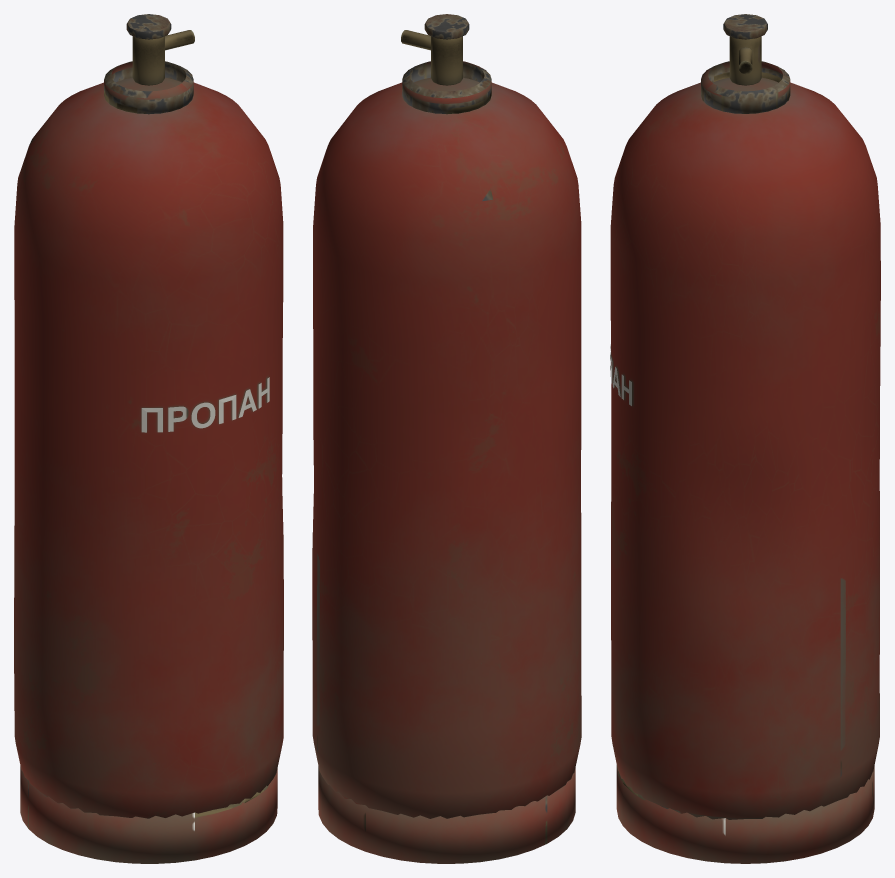
File: GasCylinder.fbx
The picture shows the model from 3 angles, left to right: view 1: azimuth 30°, elevation 25°; view 2: azimuth 150°, elevation 25°; view 3: azimuth 270°, elevation 25°; orthographic projection.
Visible parts, largest first — view 1: GasCylinder_Mesh; view 2: GasCylinder_Mesh; view 3: GasCylinder_Mesh.
Boxes of the visible parts, x1,y1,x2,y2 form: GasCylinder_Mesh: [14, 14, 283, 863]; GasCylinder_Mesh: [312, 14, 581, 863]; GasCylinder_Mesh: [610, 14, 880, 863].
Size of the model in its own units: 0.3013 by 0.97 by 0.3026.
